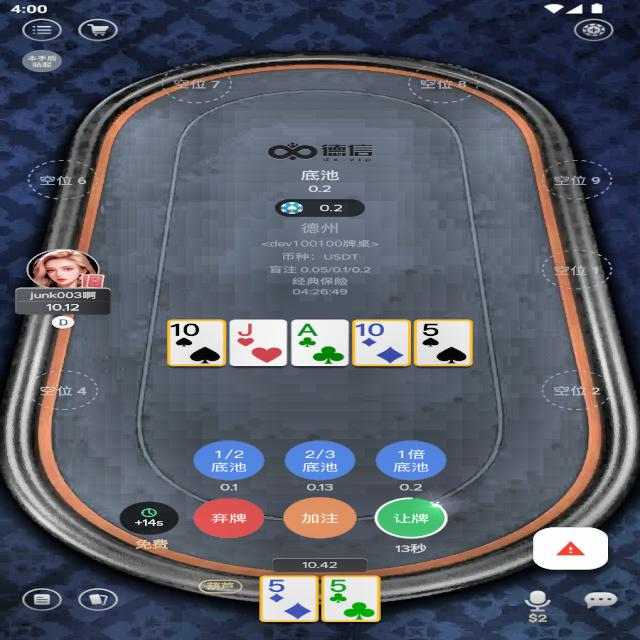10f: (356, 320, 386, 338)
10s: (170, 320, 202, 338)
5f: (263, 578, 291, 594)
5m: (326, 577, 352, 594)
5s: (420, 321, 441, 337)
Am: (293, 320, 324, 338)
Jh: (234, 320, 257, 338)
